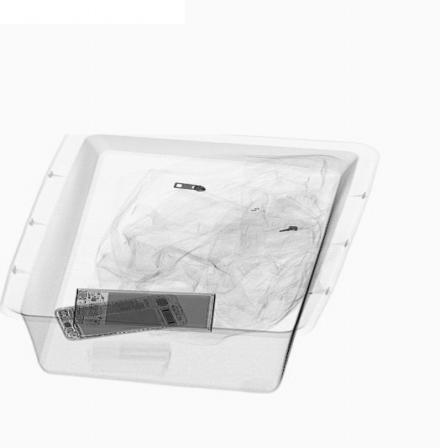Powerbank: (72, 286, 217, 336)
